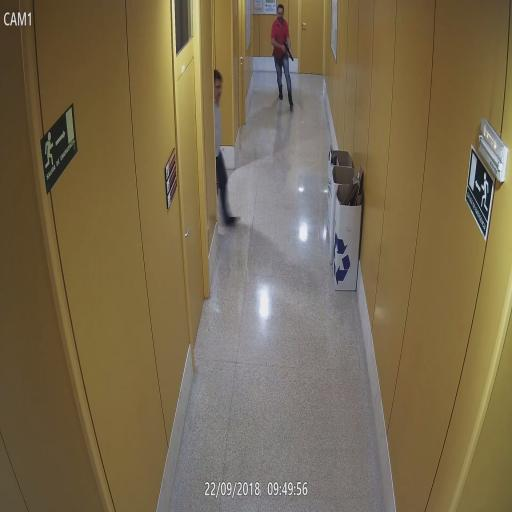Handgun: (215, 172, 220, 195)
